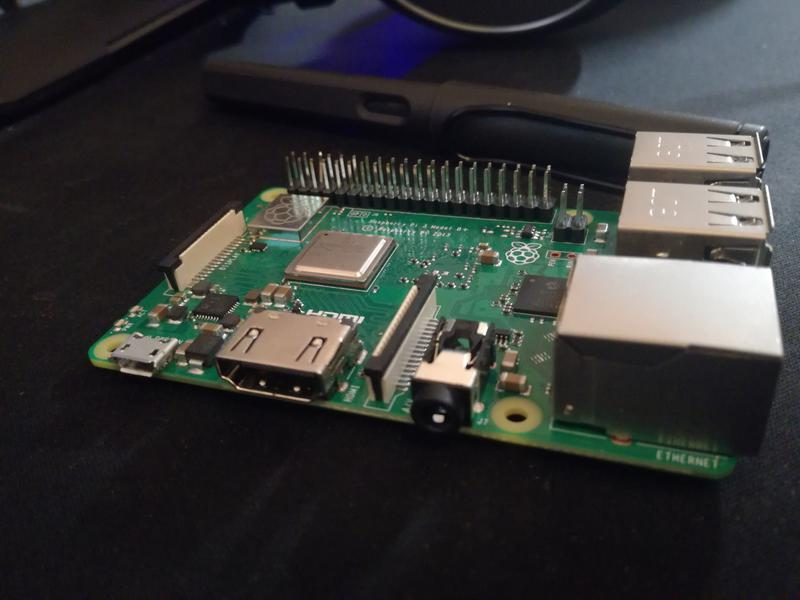Raspberry_Pi_3: (74, 118, 785, 491)
